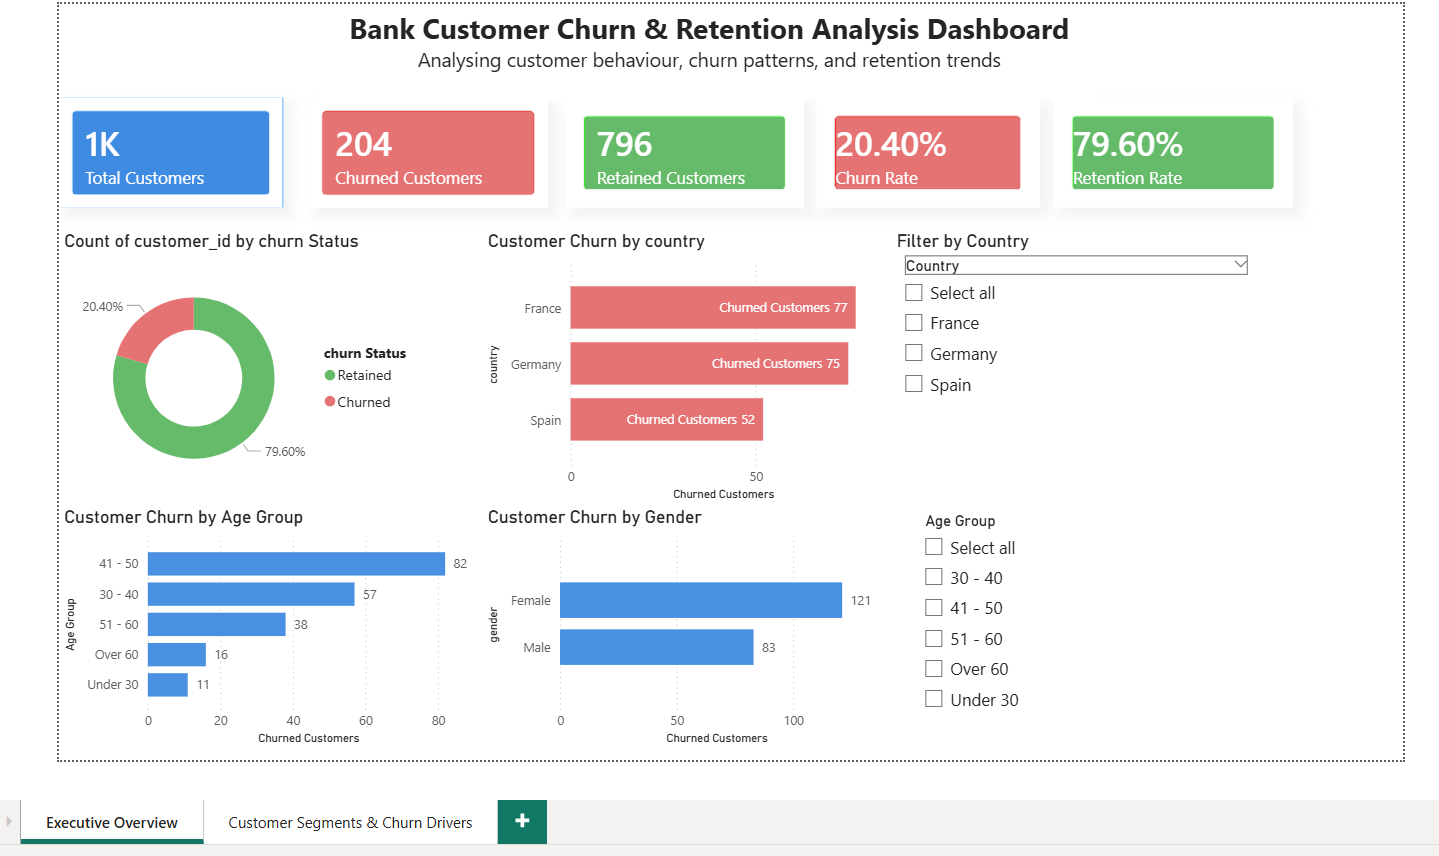

The dashboard page shown, as its layout file describes it:
{"tool":"powerbi","page":{"name":"Executive Overview","canvas":[1280,720],"ordinal":0},"visuals":[{"type":"cardVisual","fields":{"Data":["ChurnTable.Total Customers"]},"box":[0,89.3,214,105.2],"z":0},{"type":"cardVisual","fields":{"Data":["ChurnTable.Churned Customers"]},"box":[238.5,89.3,227.4,105.2],"z":1000},{"type":"cardVisual","fields":{"Data":["ChurnTable.Retained Customers"]},"box":[481.8,89.3,227.4,105.2],"z":2000},{"type":"cardVisual","fields":{"Data":["ChurnTable.Churn Rate"]},"box":[721.5,89.3,212.8,105.2],"z":3000},{"type":"cardVisual","fields":{"Data":["ChurnTable.Retention Rate"]},"box":[947.7,89.3,227.4,105.2],"z":4000},{"type":"textbox","box":[249.5,0,738.6,89.3],"z":5000},{"type":"donutChart","fields":{"Category":["ChurnTable.churn Status"],"Y":["CountNonNull(ChurnTable.customer_id)"]},"box":[0,215.2,352.2,262.9],"z":6000},{"type":"clusteredBarChart","title":"Customer Churn  by country","fields":{"Category":["ChurnTable.country"],"Y":["ChurnTable.Churned Customers"]},"box":[403.5,215.2,387.6,262.9],"z":7000},{"type":"clusteredBarChart","title":"Customer Churn by Age Group","fields":{"Y":["ChurnTable.Churned Customers"],"Category":["ChurnTable.Age Group"]},"box":[0,478.1,403.5,232.3],"z":8000},{"type":"clusteredBarChart","title":"Customer Churn by Gender","fields":{"Category":["ChurnTable.gender"],"Y":["ChurnTable.Churned Customers"]},"box":[404,478,388,232],"z":9000},{"type":"slicer","title":"Filter by Country","fields":{"Values":["ChurnTable.country"]},"box":[792.4,215.2,352.2,247],"z":10000},{"type":"slicer","fields":{"Values":["ChurnTable.Age Group"]},"box":[812,478.1,352.2,232.3],"z":11000}]}

Visuals, with their boxes on the page's 1280x720 design canvas (x1, y1, x2, y2). These are canvas units, not pixel positions in the 1439x856 screenshot, which may show the page scaled, cropped or inside an application window:
cardVisual - ChurnTable.Total Customers: BBox(0, 89, 214, 194)
cardVisual - ChurnTable.Churned Customers: BBox(238, 89, 466, 194)
cardVisual - ChurnTable.Retained Customers: BBox(482, 89, 709, 194)
cardVisual - ChurnTable.Churn Rate: BBox(722, 89, 934, 194)
cardVisual - ChurnTable.Retention Rate: BBox(948, 89, 1175, 194)
textbox: BBox(250, 0, 988, 89)
donutChart - ChurnTable.churn Status x CountNonNull(ChurnTable.customer_id): BBox(0, 215, 352, 478)
"Customer Churn  by country" clusteredBarChart: BBox(404, 215, 791, 478)
"Customer Churn by Age Group" clusteredBarChart: BBox(0, 478, 404, 710)
"Customer Churn by Gender" clusteredBarChart: BBox(404, 478, 792, 710)
"Filter by Country" slicer: BBox(792, 215, 1145, 462)
slicer - ChurnTable.Age Group: BBox(812, 478, 1164, 710)
